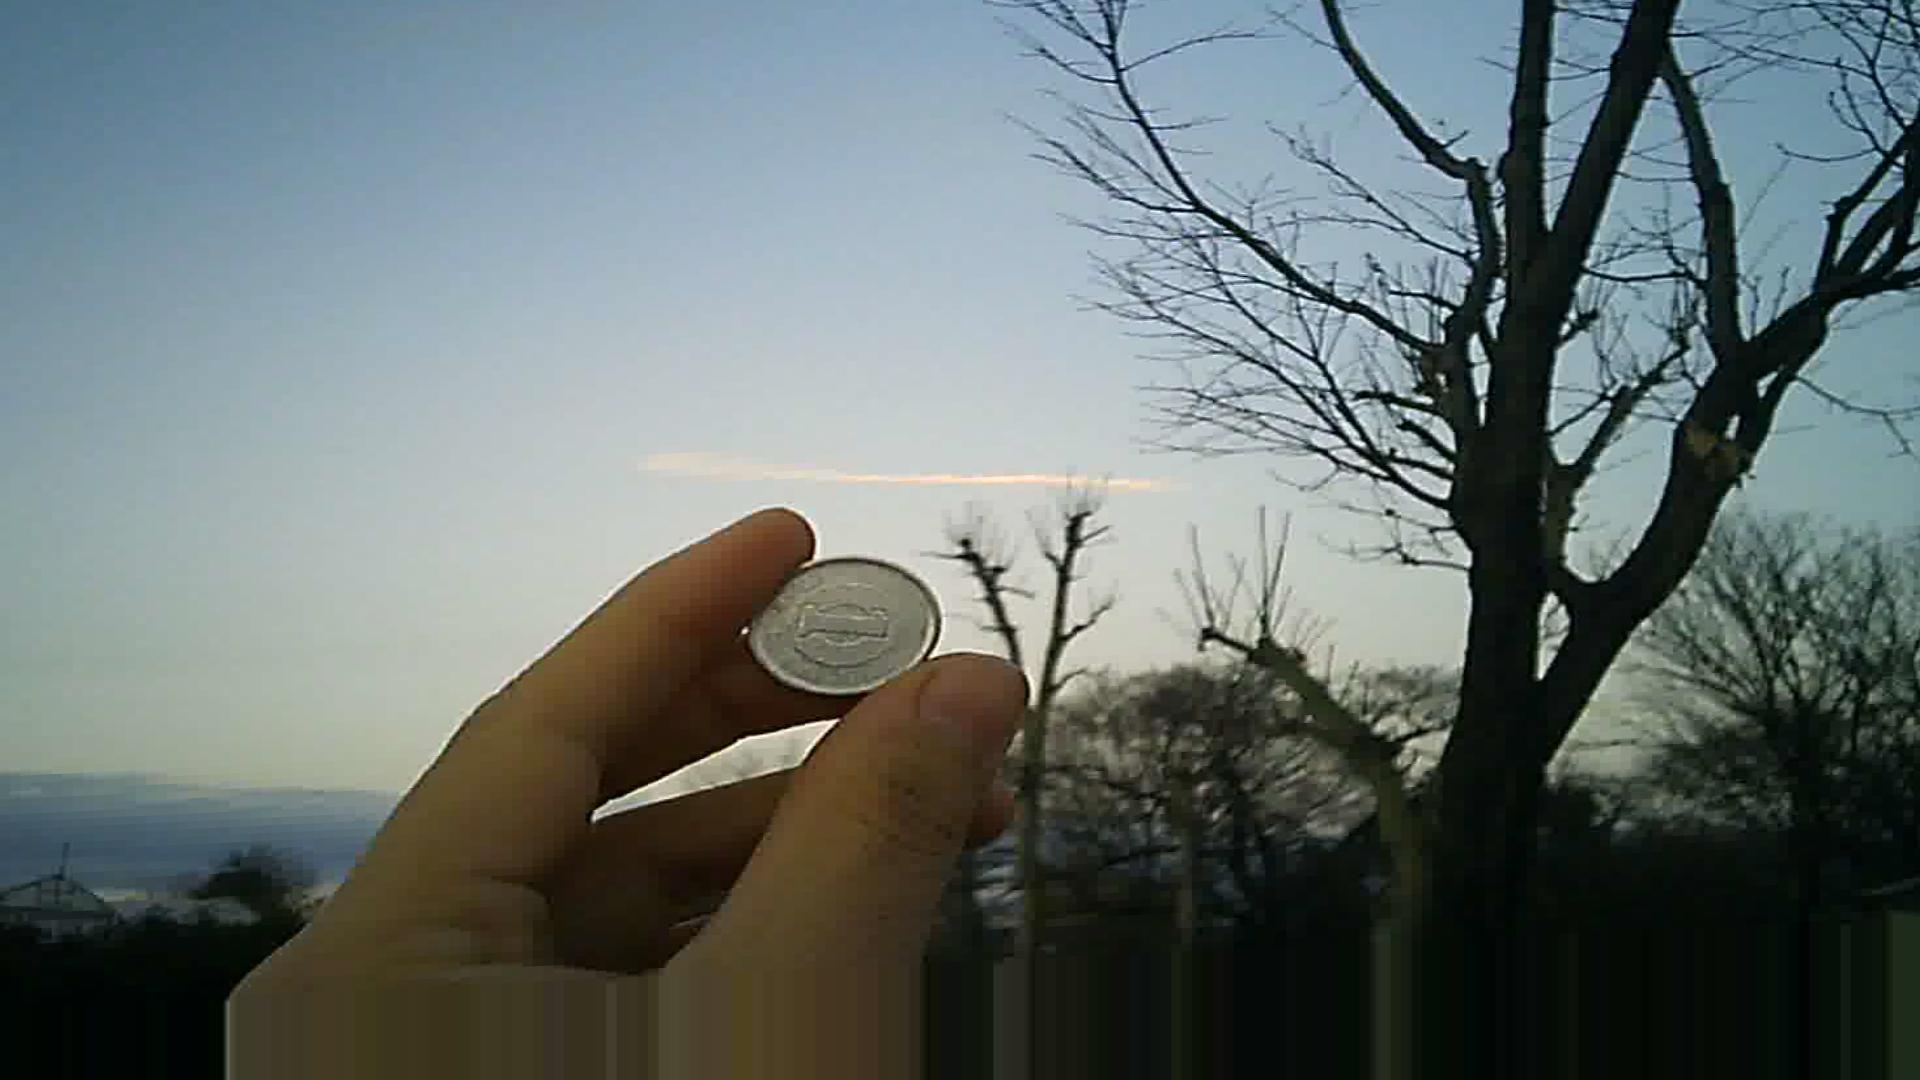1 Yen: (740, 545, 951, 705)
